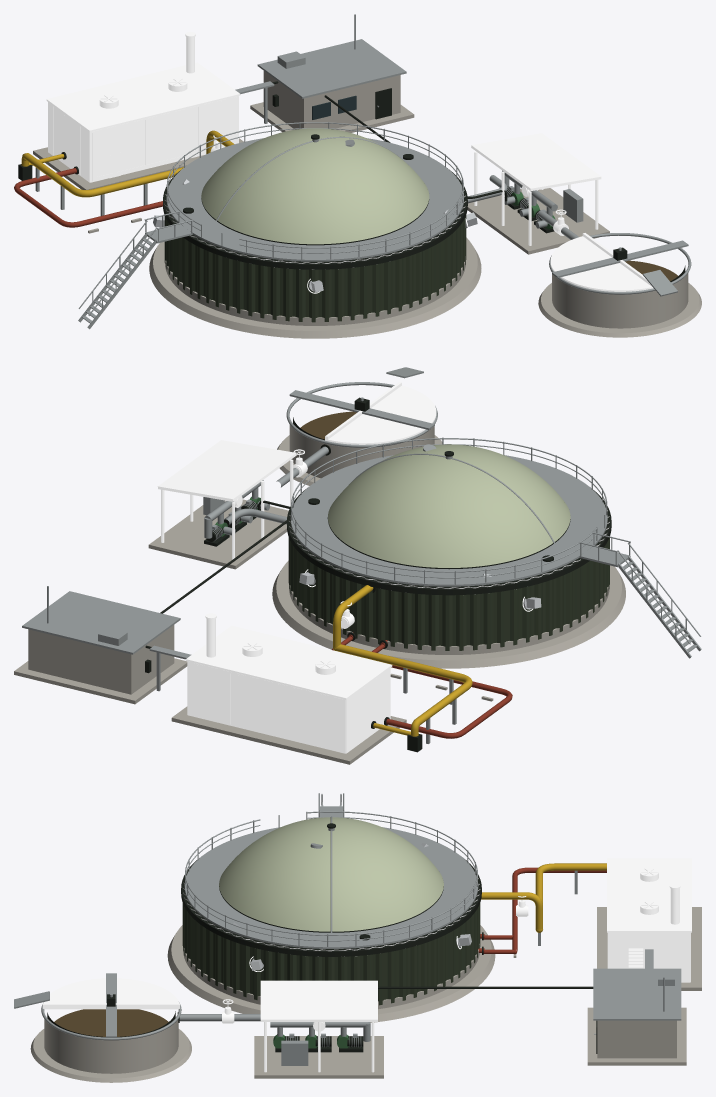
File: iona-tesis-3d.draco.glb
3 views of the same model, one above another, from view 1: azimuth 30°, elevation 25°; view 2: azimuth 150°, elevation 25°; view 3: azimuth 270°, elevation 25° (orthographic). The views are drawn at different scales.
Visible parts, largest first — view 1: gas_dome, tank_wall, container_wall (×3), dome_walkway, foundation_pad, roof_fascia_2, pool_wall, roof, slab_1, pool_cover, top_ring, wall_front_2 (+14 smaller); view 2: gas_dome, container_wall (×3), tank_wall, dome_walkway, foundation_pad, roof_fascia_2, roof, wall_back_2, slab_1, pool_cover, top_ring, slab (+12 smaller); view 3: gas_dome, tank_wall (×2), dome_walkway, container_wall (×2), roof, pool_wall, roof_fascia_2, foundation_pad, slab_1, pool_cover (×2), wall_right_2, top_ring (+16 smaller).
Part boxes in pixels (box(x1,y1,x2,y2)): gas_dome: box(201, 128, 429, 244); tank_wall: box(164, 215, 466, 322); container_wall (×3): box(46, 62, 240, 182); dome_walkway: box(166, 138, 463, 261); foundation_pad: box(149, 237, 481, 338); roof_fascia_2: box(257, 39, 406, 98); pool_wall: box(552, 273, 688, 328); roof: box(471, 133, 601, 190); slab_1: box(467, 188, 609, 254); pool_cover: box(550, 236, 652, 291); top_ring: box(163, 168, 467, 269); wall_front_2: box(303, 75, 400, 128); gas_dome: box(328, 444, 570, 567); container_wall (×3): box(185, 625, 392, 753); tank_wall: box(288, 537, 609, 650); dome_walkway: box(290, 455, 607, 586); foundation_pad: box(272, 560, 625, 668); roof_fascia_2: box(22, 591, 180, 654); roof: box(157, 440, 296, 501); wall_back_2: box(28, 629, 132, 694); slab_1: box(148, 499, 288, 569); pool_cover: box(328, 385, 436, 444); top_ring: box(287, 487, 611, 595); slab: box(171, 706, 406, 764); gas_dome: box(219, 817, 443, 931); tank_wall (×2): box(182, 871, 480, 1005); dome_walkway: box(184, 827, 478, 948); container_wall (×2): box(607, 858, 691, 982); roof: box(260, 980, 377, 1021); pool_wall: box(44, 1019, 178, 1073); roof_fascia_2: box(593, 968, 681, 1020); foundation_pad: box(167, 925, 495, 1022); slab_1: box(254, 1036, 383, 1078); pool_cover (×2): box(42, 978, 179, 1009); wall_right_2: box(599, 1020, 674, 1058); top_ring: box(181, 858, 481, 956).
Size of the model in its own units: 46.24 by 11.86 by 56.27.
